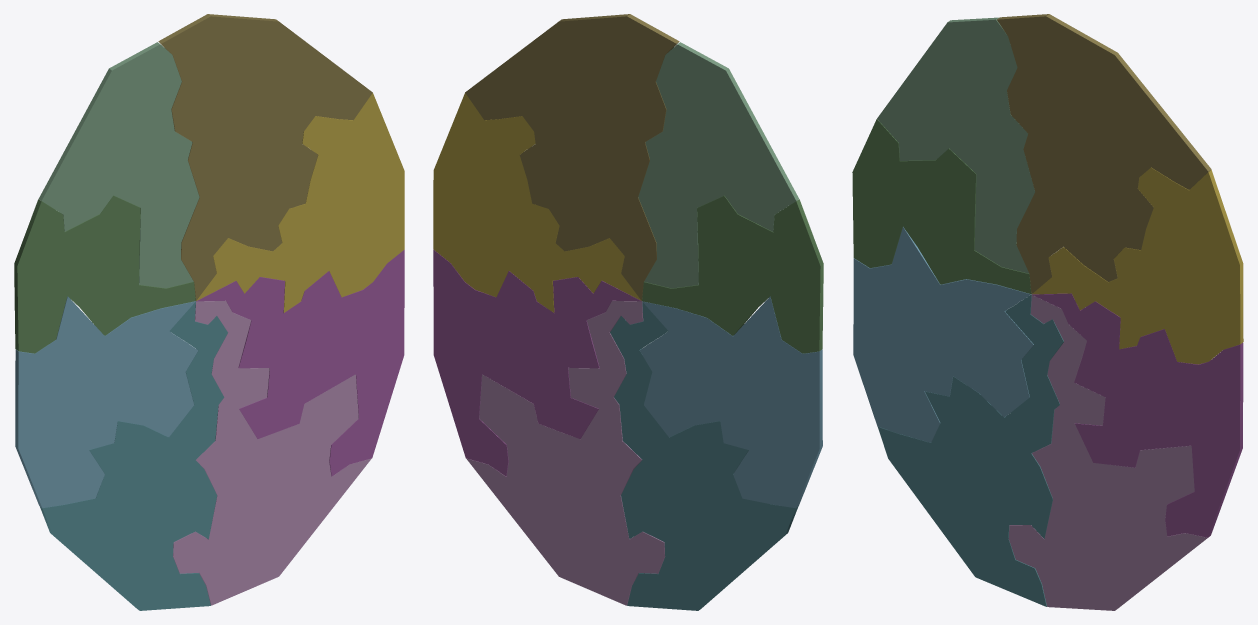
The model's file is NewMirrorShards_UVDone.fbx.
3 renders of one model, left to right at view 1: azimuth 30°, elevation 25°; view 2: azimuth 150°, elevation 25°; view 3: azimuth 330°, elevation 25°, orthographic.
Visible parts, largest first — view 1: NewShard3, NewShard8, NewShard7, NewShard5, NewShard6, NewShard2, NewShard4, NewShard1; view 2: NewShard3, NewShard8, NewShard7, NewShard5, NewShard6, NewShard2, NewShard4, NewShard1; view 3: NewShard3, NewShard8, NewShard7, NewShard5, NewShard6, NewShard4, NewShard2, NewShard1.
Boxes of the visible parts, bbox=[...] form: NewShard3: bbox=[158, 14, 372, 300]; NewShard8: bbox=[173, 300, 371, 605]; NewShard7: bbox=[40, 301, 227, 610]; NewShard5: bbox=[15, 296, 198, 507]; NewShard6: bbox=[196, 250, 404, 476]; NewShard2: bbox=[38, 42, 199, 288]; NewShard4: bbox=[196, 93, 404, 312]; NewShard1: bbox=[14, 195, 195, 353]; NewShard3: bbox=[465, 14, 679, 300]; NewShard8: bbox=[466, 300, 665, 605]; NewShard7: bbox=[610, 302, 798, 610]; NewShard5: bbox=[639, 296, 822, 508]; NewShard6: bbox=[433, 249, 641, 476]; NewShard2: bbox=[638, 42, 798, 288]; NewShard4: bbox=[433, 93, 641, 312]; NewShard1: bbox=[642, 195, 823, 353]; NewShard3: bbox=[997, 14, 1211, 293]; NewShard8: bbox=[1008, 295, 1208, 610]; NewShard7: bbox=[878, 294, 1063, 606]; NewShard5: bbox=[853, 227, 1033, 442]; NewShard6: bbox=[1032, 293, 1243, 537]; NewShard4: bbox=[1032, 167, 1243, 364]; NewShard2: bbox=[877, 17, 1034, 273]; NewShard1: bbox=[852, 119, 1031, 293].
Bounding box in the file's own units: 15.65 × 22.77 × 0.2315.
